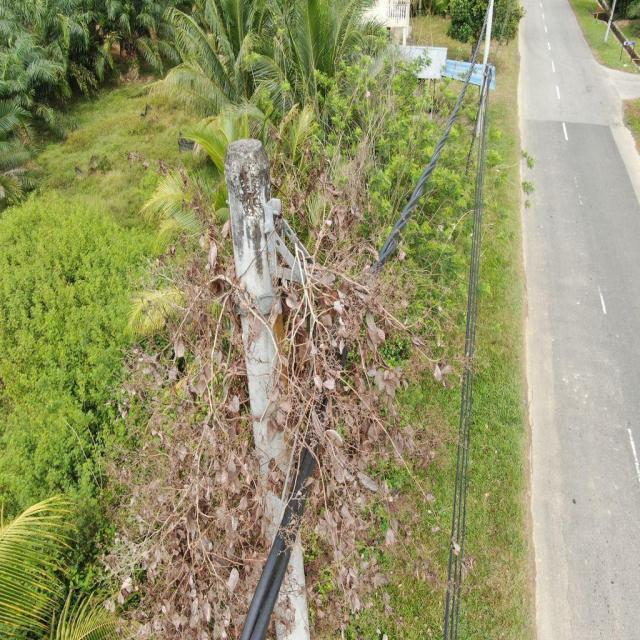critical vegetation: (116, 188, 453, 612)
